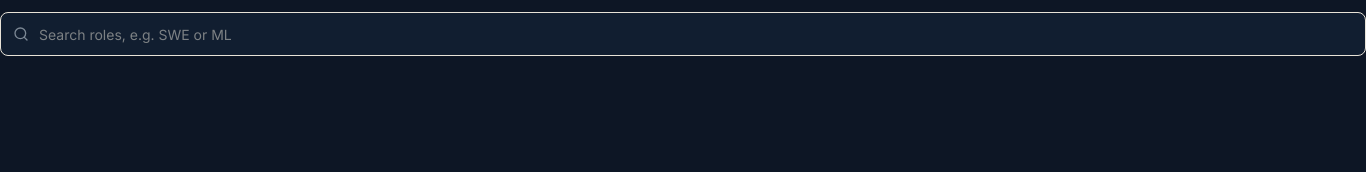
Test: SearchableRoleDropdown › filters as you type and selects with the keyboard
Later steps or results of the test are not shown.
Step 1. Type "backend" into the dropdown labelled "role" → x=696, y=34, box [39,13,1353,55]
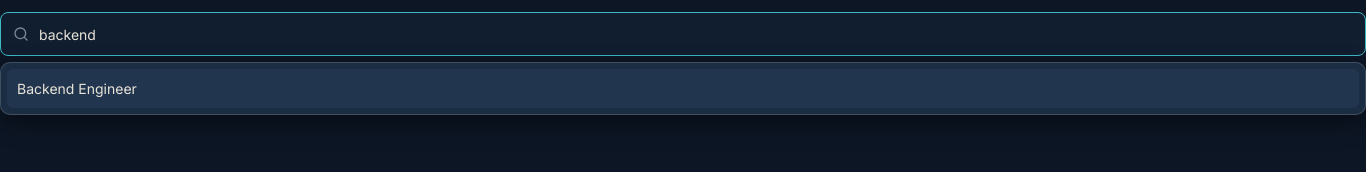
expect the dropdown named "role" is expanded: met, box [39,13,1353,55]
expect the option "Backend Engineer" is shown: met, box [7,69,1359,108]
